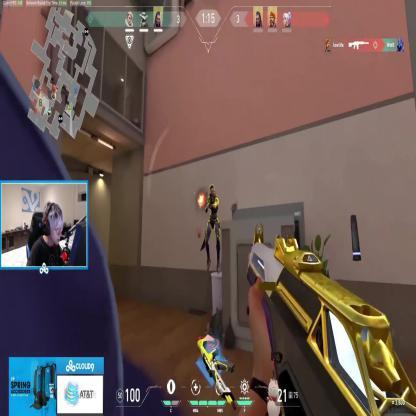enemy: (200, 184, 221, 274)
enemy_head: (209, 184, 217, 199)
